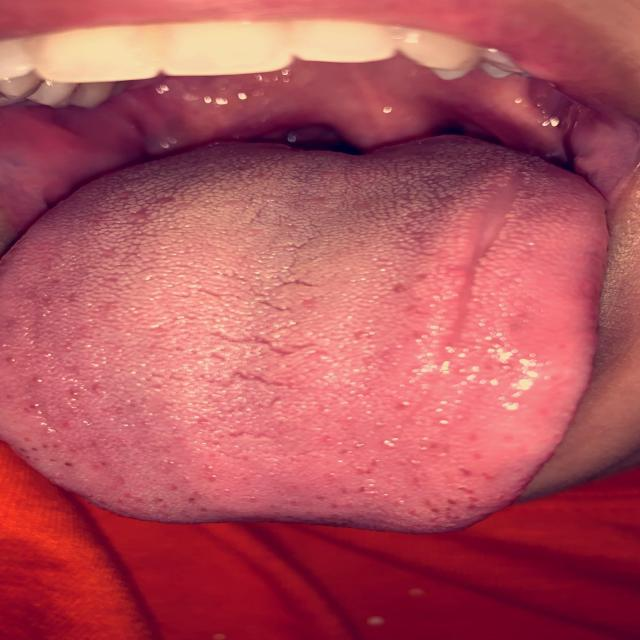normal_tongue: (0, 116, 640, 584)
